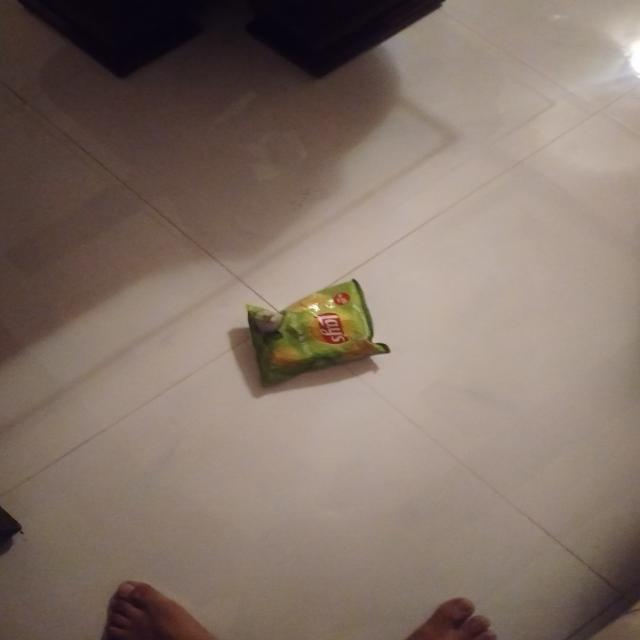Plastic: (245, 278, 395, 388)
